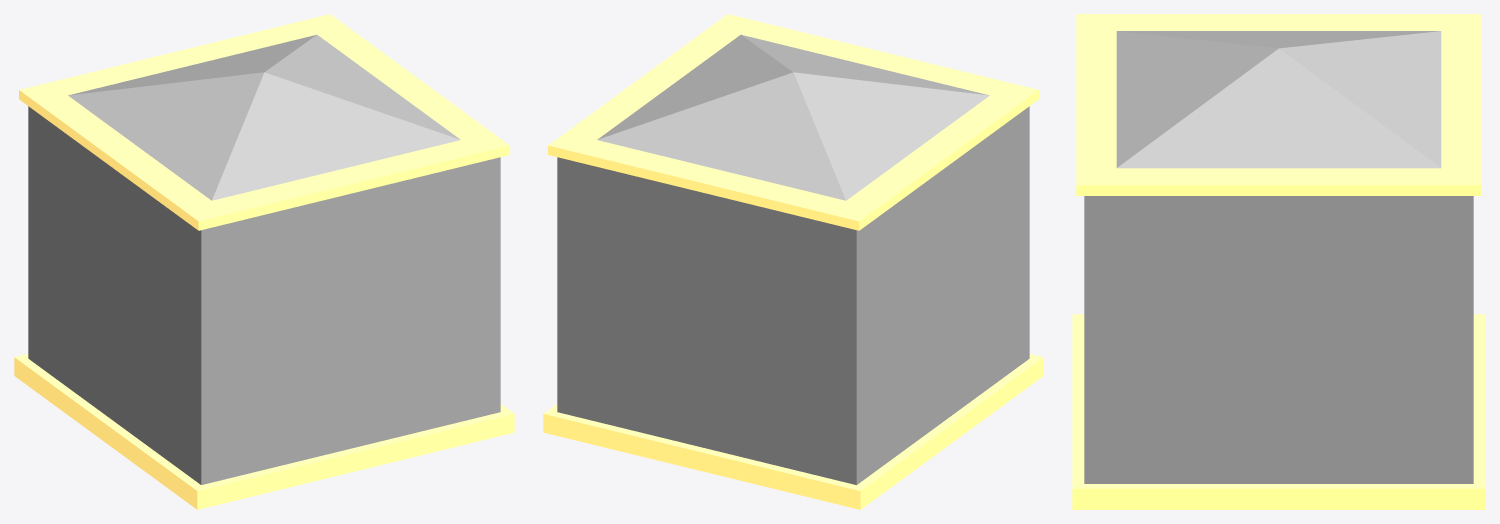
The model's file is bldg_pyramid.glb.
3 renders of one model, left to right at view 1: azimuth 30°, elevation 25°; view 2: azimuth 150°, elevation 25°; view 3: azimuth 270°, elevation 25°, orthographic. The views are drawn at different scales.
Parts seen in each view (by area): view 1: bldg_pyramid; view 2: bldg_pyramid; view 3: bldg_pyramid.
Part boxes in pixels (bbox=[...]): bldg_pyramid: bbox=[14, 14, 514, 509]; bldg_pyramid: bbox=[543, 14, 1043, 509]; bldg_pyramid: bbox=[1072, 14, 1485, 509].
Size of the model in its own units: 1.06 by 1.06 by 1.06.
